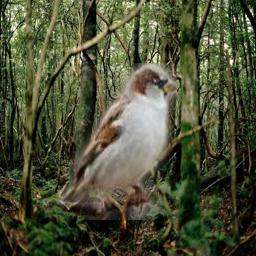Sparrow: (47, 63, 177, 220)
